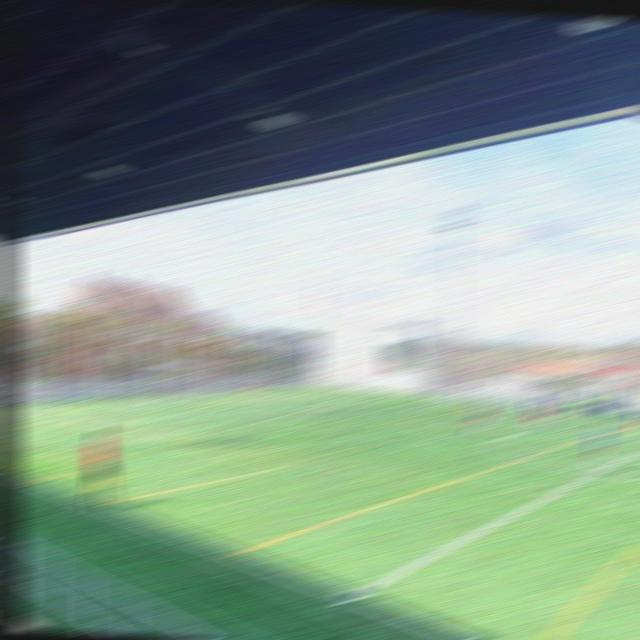bigarea_bottom_inner: (90, 421, 108, 427)
bigarea_top_inner: (379, 399, 396, 405)
bigarea_top_outter: (289, 393, 305, 396)
bottom_arc_area_intersection: (223, 410, 241, 417)
corner: (337, 391, 351, 393)
halfcircle_bottom: (586, 463, 609, 479)
midline_bottom_intersection: (335, 578, 371, 614)
smallarea_bottom_inner: (132, 404, 150, 409)
smallarea_bottom_outter: (105, 401, 124, 405)
smallarea_top_inner: (259, 398, 276, 402)
smallarea_top_outter: (234, 395, 249, 399)
top_arc_area_intersection: (317, 403, 334, 410)
